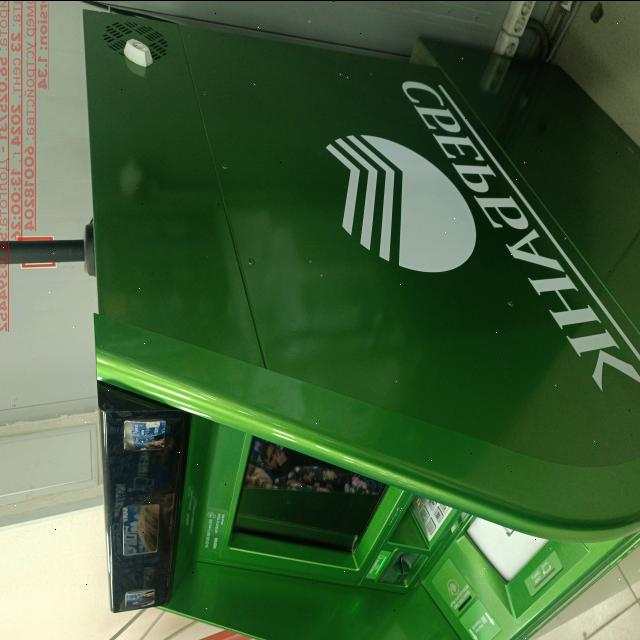bank: (78, 4, 640, 639)
